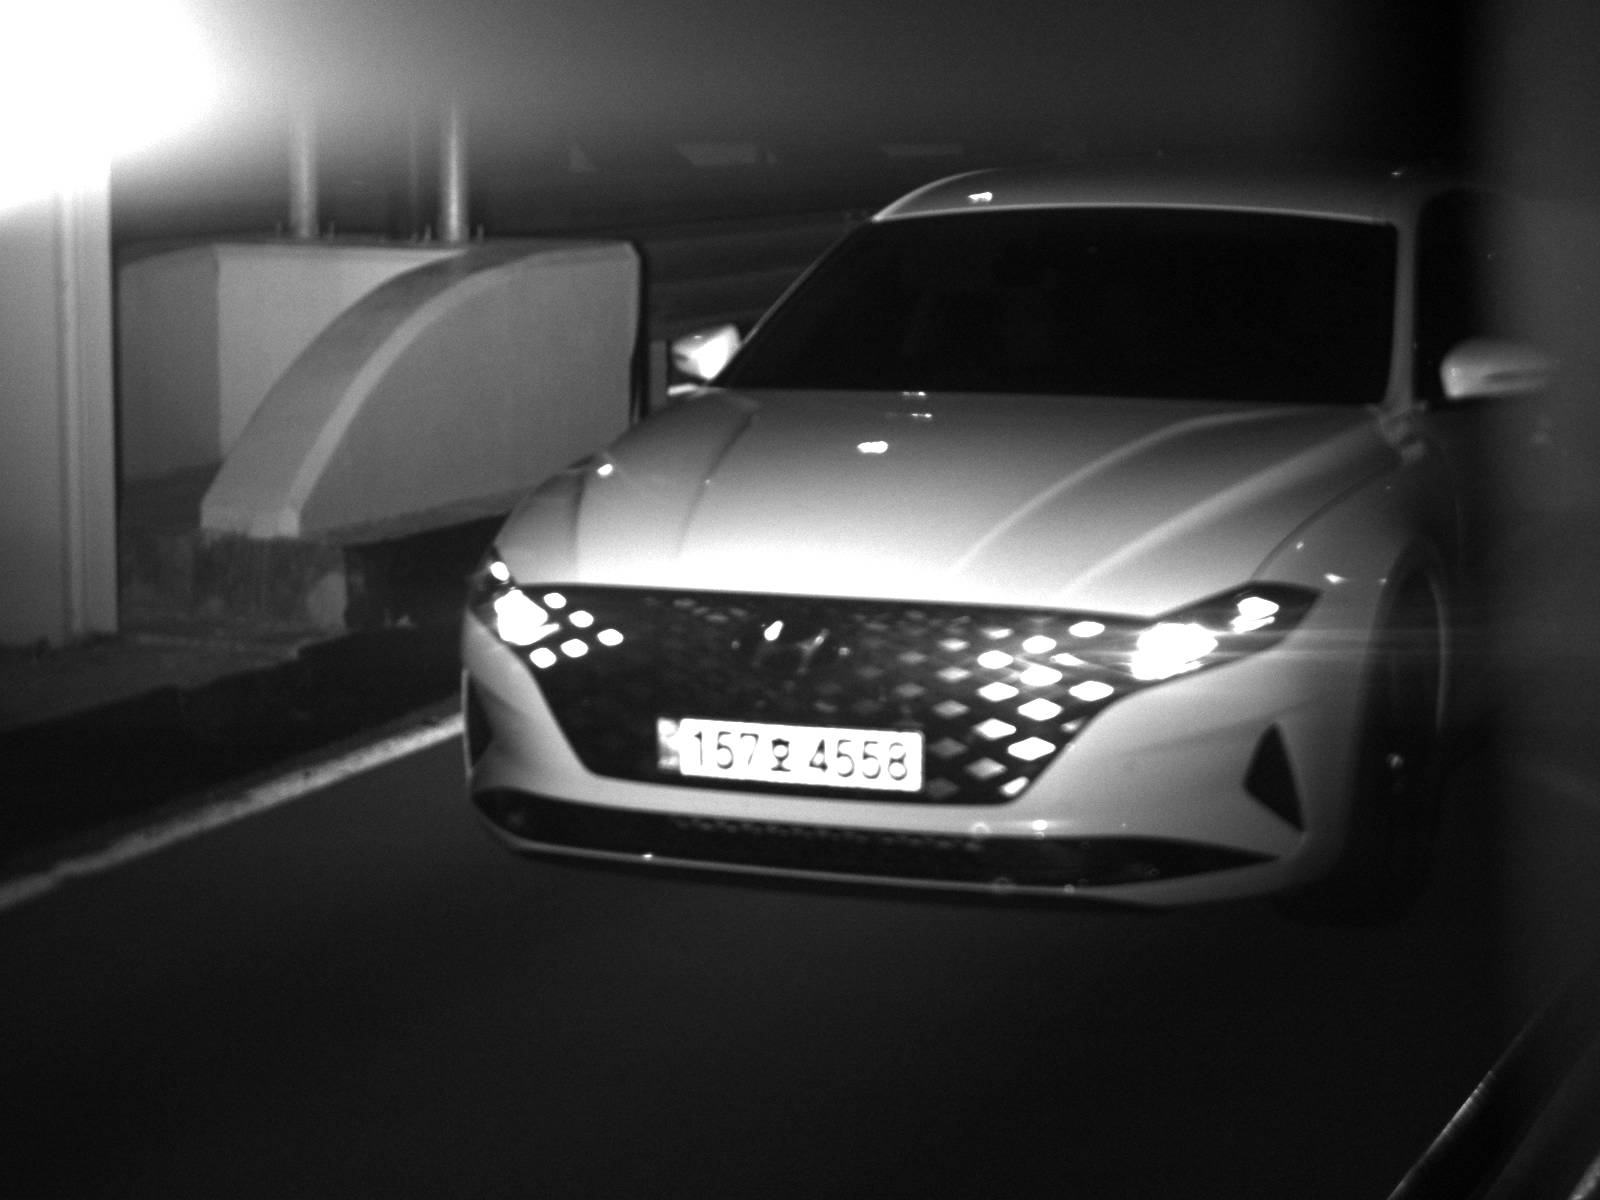car: (452, 145, 1600, 920)
plate: (674, 712, 927, 797)
